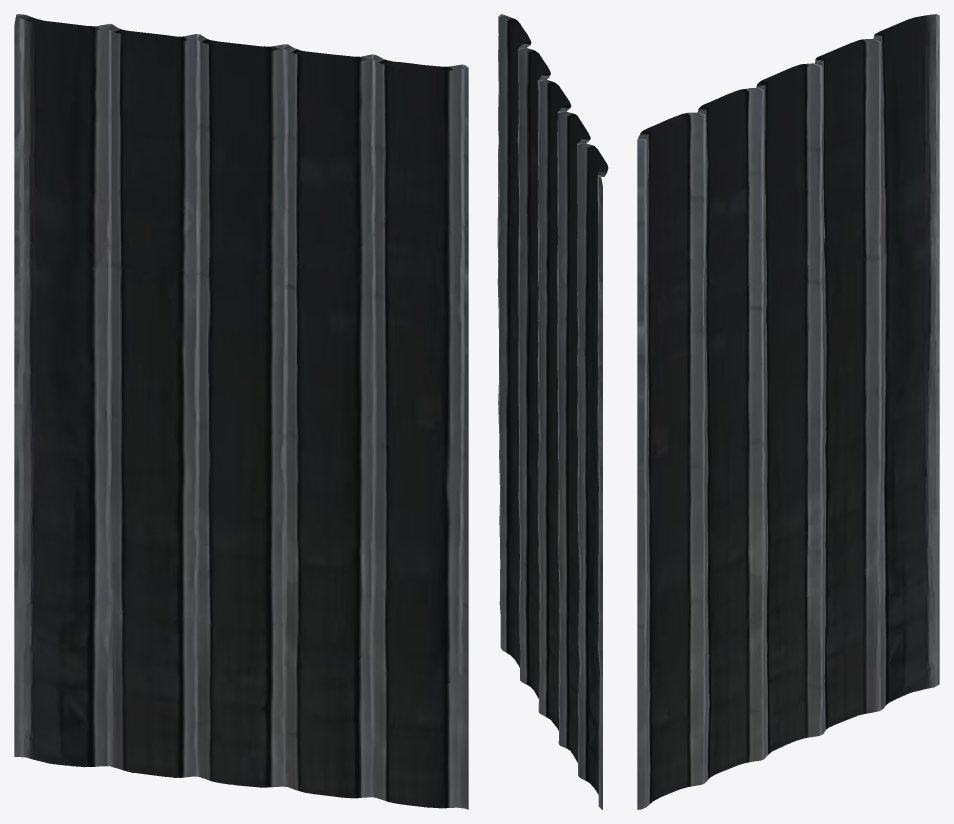
Rendered from z20-167779-405233-h1-yup-uvflip-v3-world.glb.
3 renders of one model, left to right at view 1: azimuth 30°, elevation 25°; view 2: azimuth 150°, elevation 25°; view 3: azimuth 270°, elevation 25°, orthographic. The views are drawn at different scales.
Bounding box in the file's own units: 16.56 × 40.92 × 16.76.
1 material, 1 textured.
